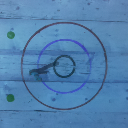Axe Tip: (36, 69, 48, 73)
